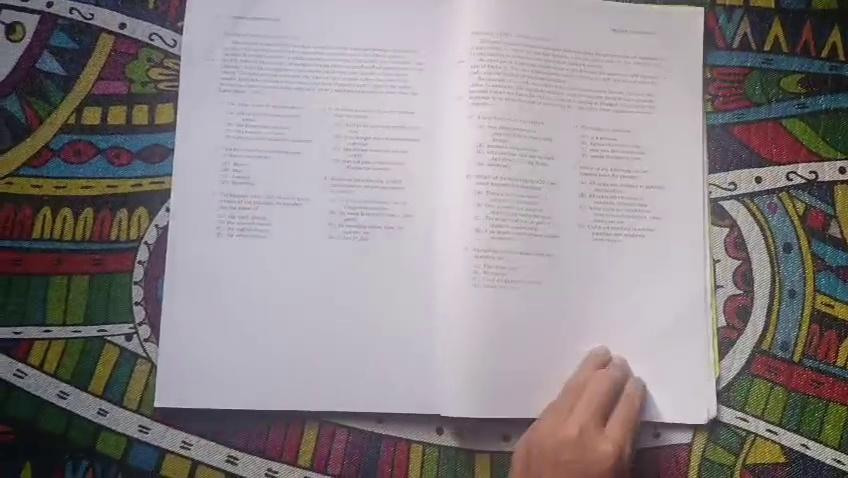Kertas: (162, 0, 460, 410), (448, 0, 710, 422)
